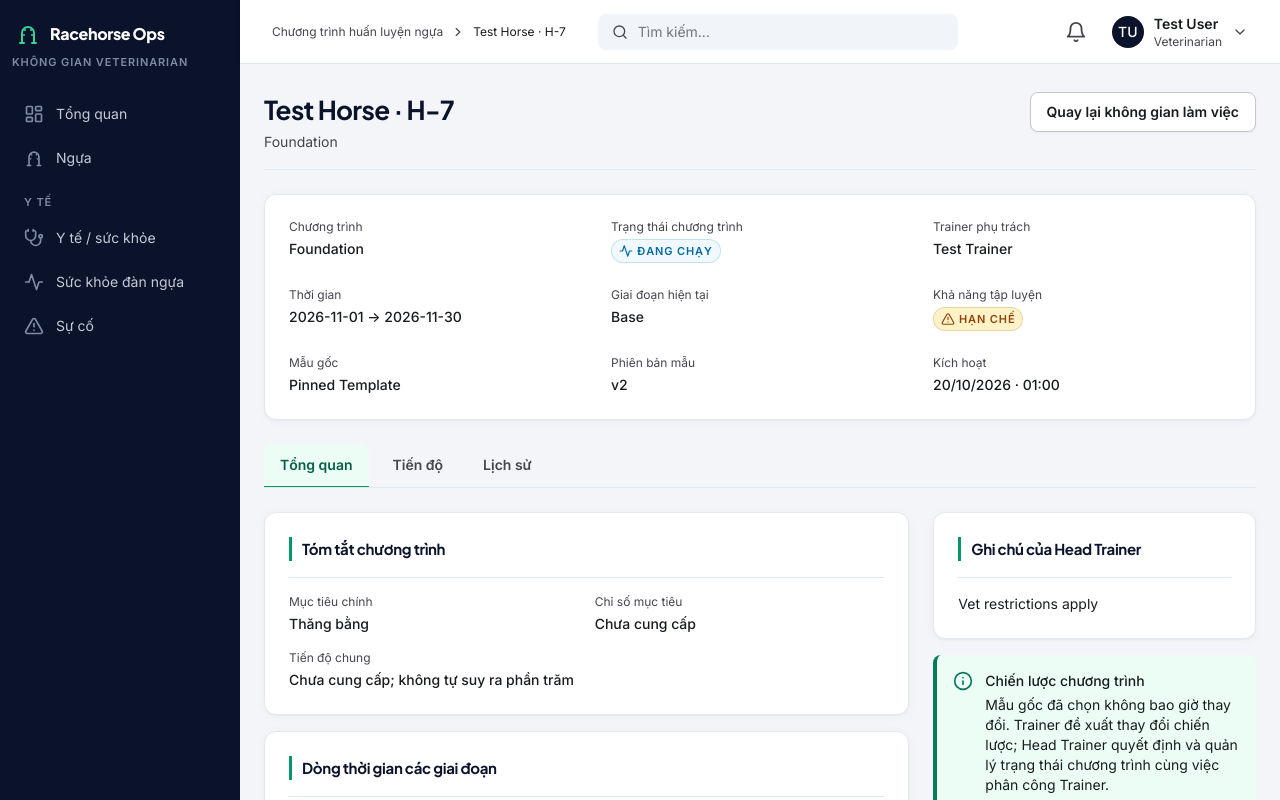
Scenario: allows VETERINARIAN overview without requesting forbidden progress/history
Expected: the text "Pinned Template" is shown, [289, 376, 401, 394]
Click the tab "Tiến độ": click(418, 466) [376, 444, 459, 488]
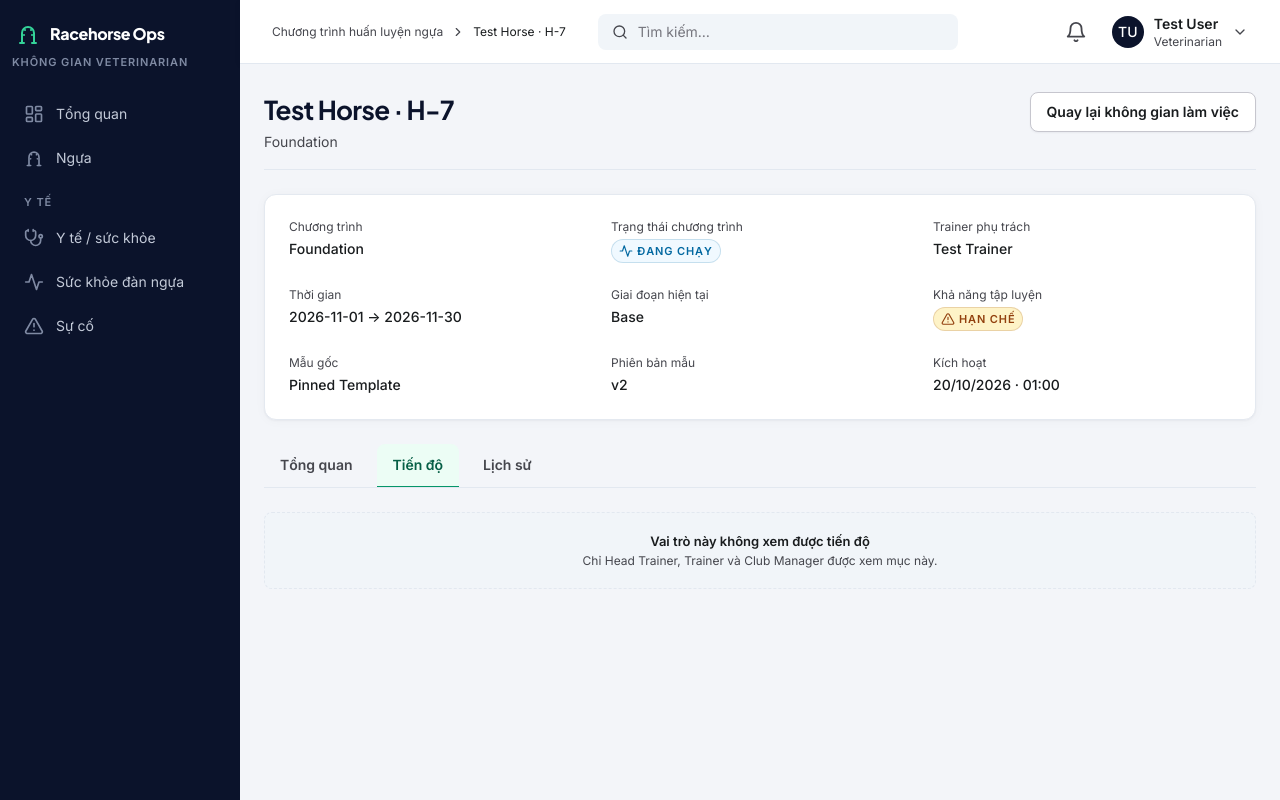
Expected: the text "Vai trò này không xem được tiến độ" is shown, [650, 534, 870, 550]
Click the tab "Lịch sử": click(507, 466) [467, 444, 548, 488]
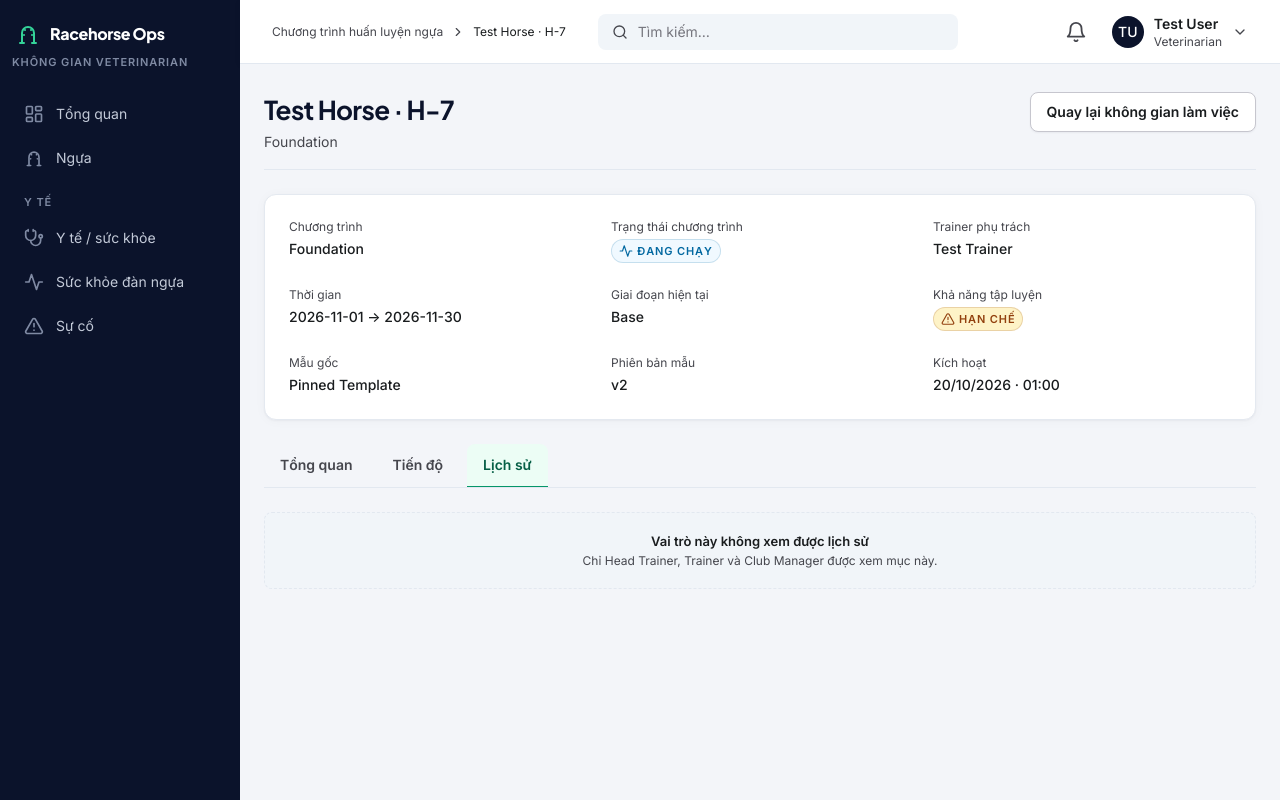
Expected: the text "Vai trò này không xem được lịch sử" is shown, [651, 534, 869, 550]
